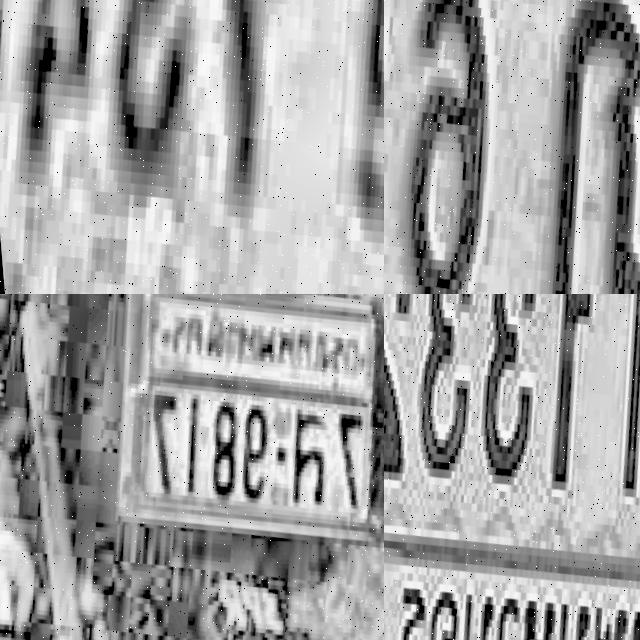license-plate: (0, 0, 384, 294), (384, 294, 640, 640), (78, 294, 384, 570), (384, 0, 640, 294)
